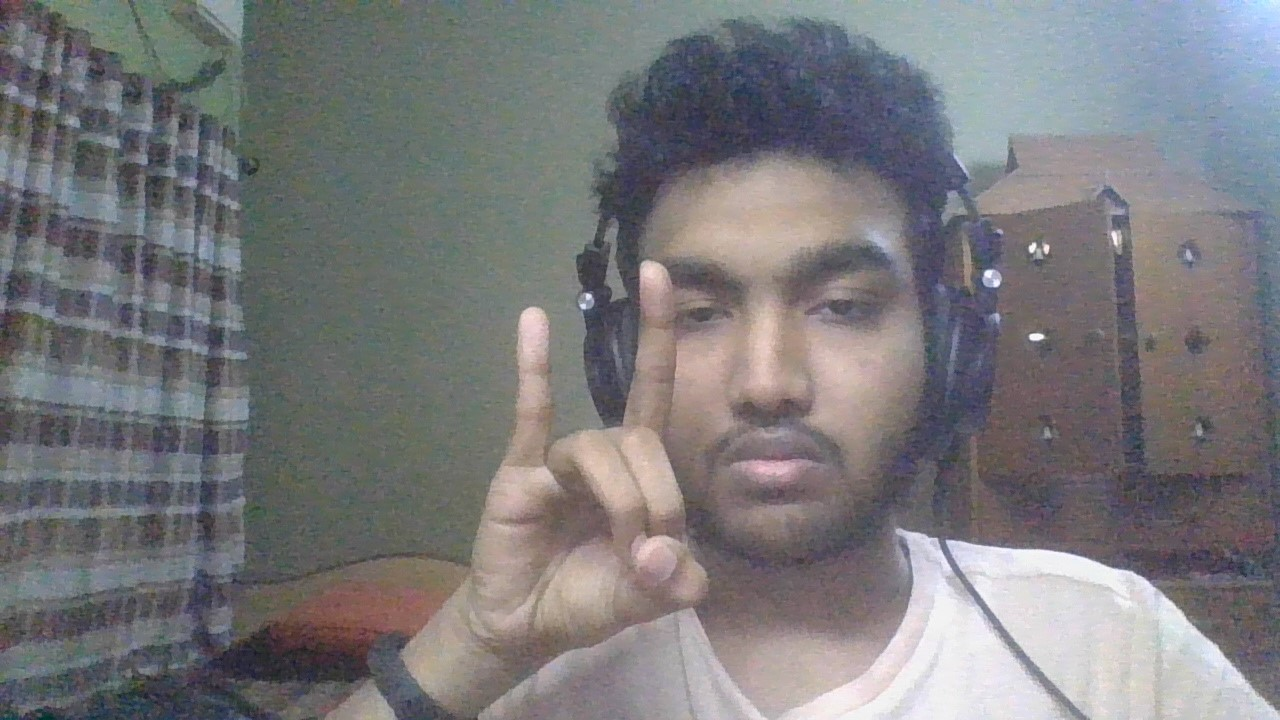Love: (480, 248, 722, 683)
